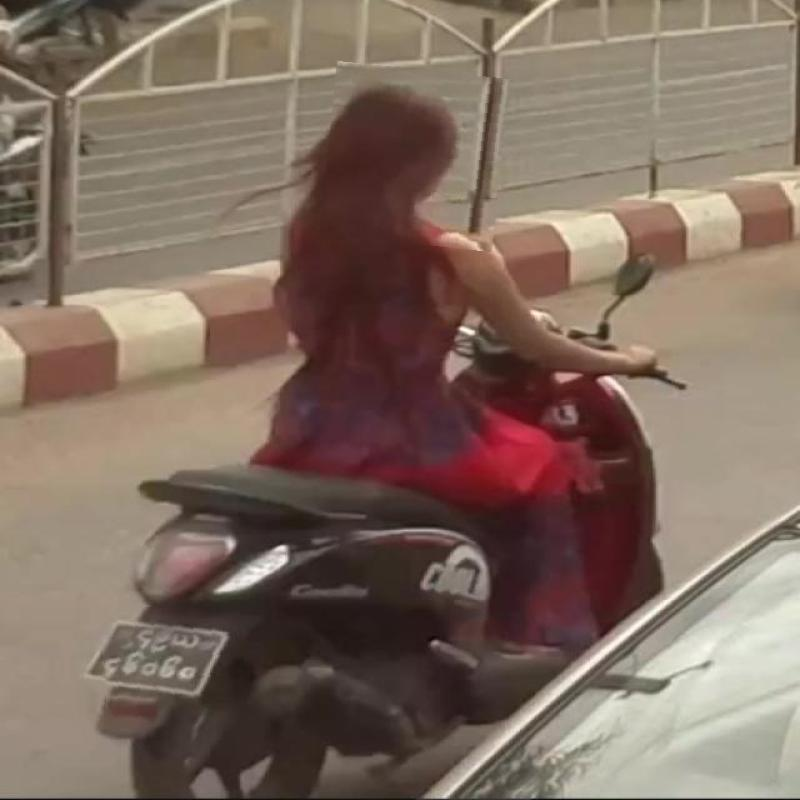nohelmet: (324, 66, 507, 249), (102, 604, 246, 728)
